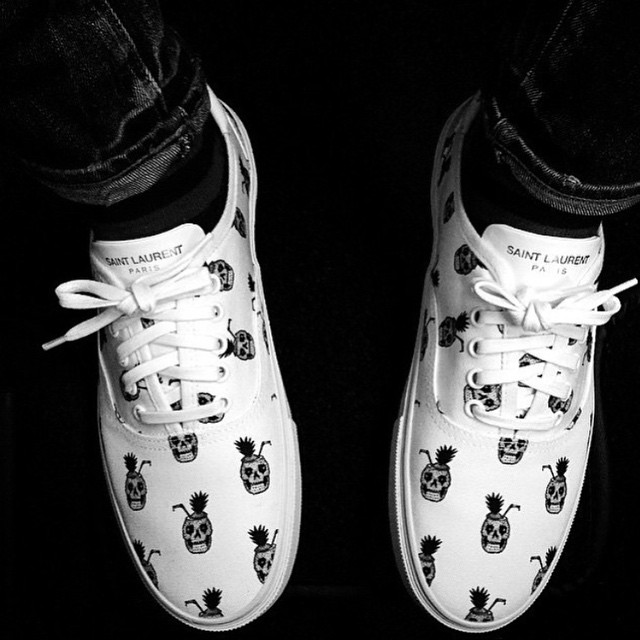sneaker: (344, 70, 640, 639), (37, 58, 327, 637)
